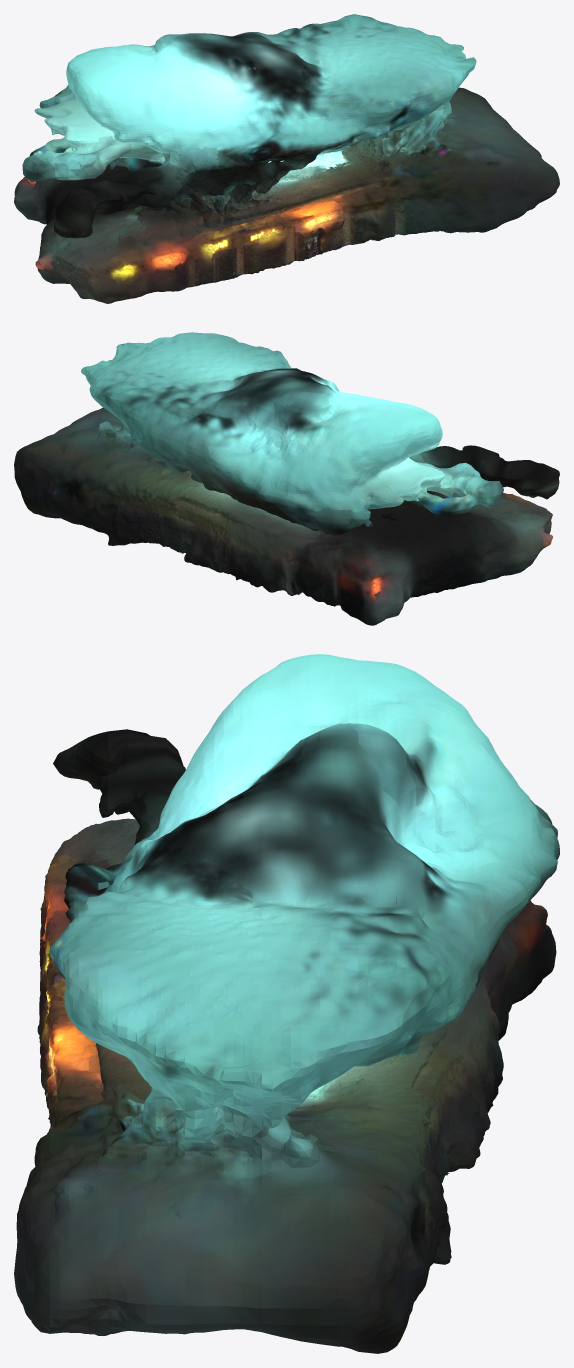
Rendered from arcade_mesh.glb.
3 renders of one model, top to bottom at view 1: azimuth 30°, elevation 25°; view 2: azimuth 150°, elevation 25°; view 3: azimuth 270°, elevation 25°, orthographic. The views are drawn at different scales.
Parts seen in each view (by area): view 1: world; view 2: world; view 3: world.
Boxes of the visible parts, x1,y1,x2,y2 form: world: (14,14,559,303); world: (14,332,559,625); world: (14,654,559,1353).
Size of the model in its own units: 44.78 by 16.47 by 21.98.
Materials: 1 (1 with a texture image).
